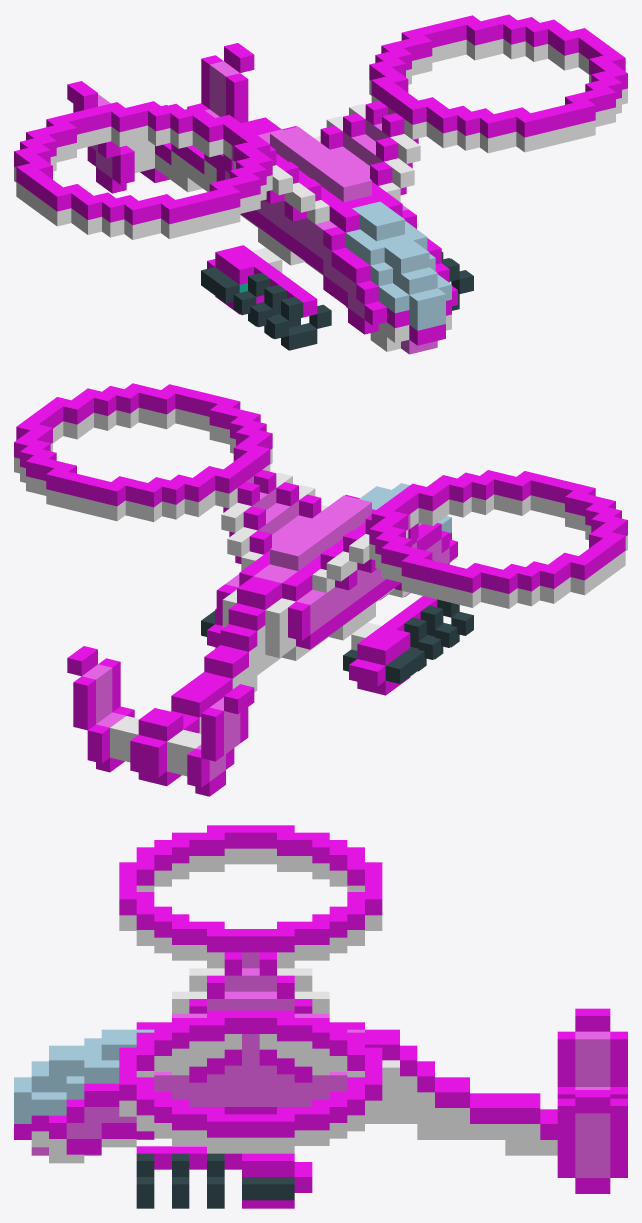
File: heli.obj
3 views of the same model, one above another, from view 1: azimuth 30°, elevation 25°; view 2: azimuth 150°, elevation 25°; view 3: azimuth 270°, elevation 25° (orthographic). The views are drawn at different scales.
Size of the model in its own units: 4 by 1.2 by 3.5.
Materials: 1 (1 with a texture image).
